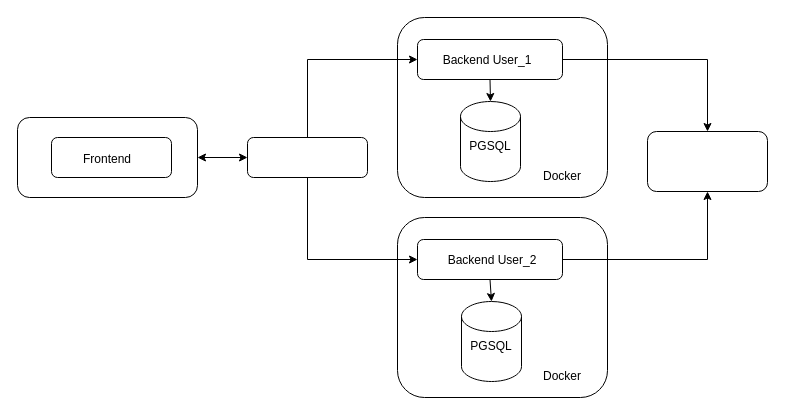
Some shapes in this 785 by 415 pixel diagram are drawn without their labels. Here are the shapes that lost their labels. From the top down, the box of each, then its label:
(246, 136, 368, 178): Gateway
(646, 130, 768, 192): Telegram API
